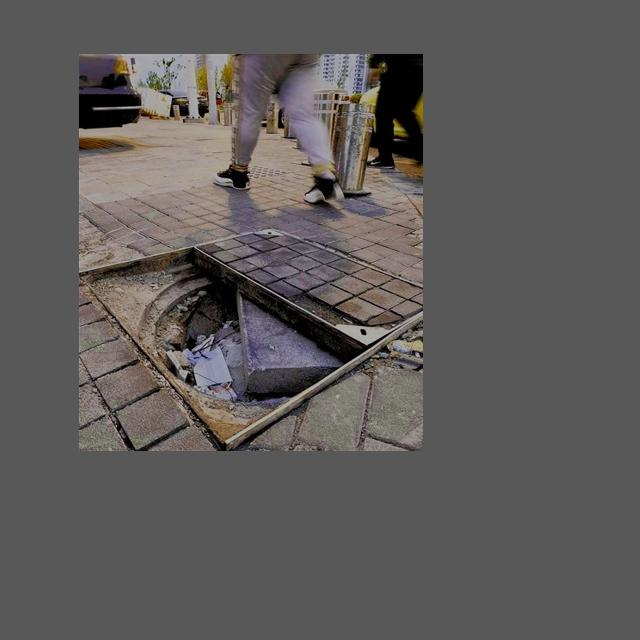lose: (86, 226, 416, 442)
